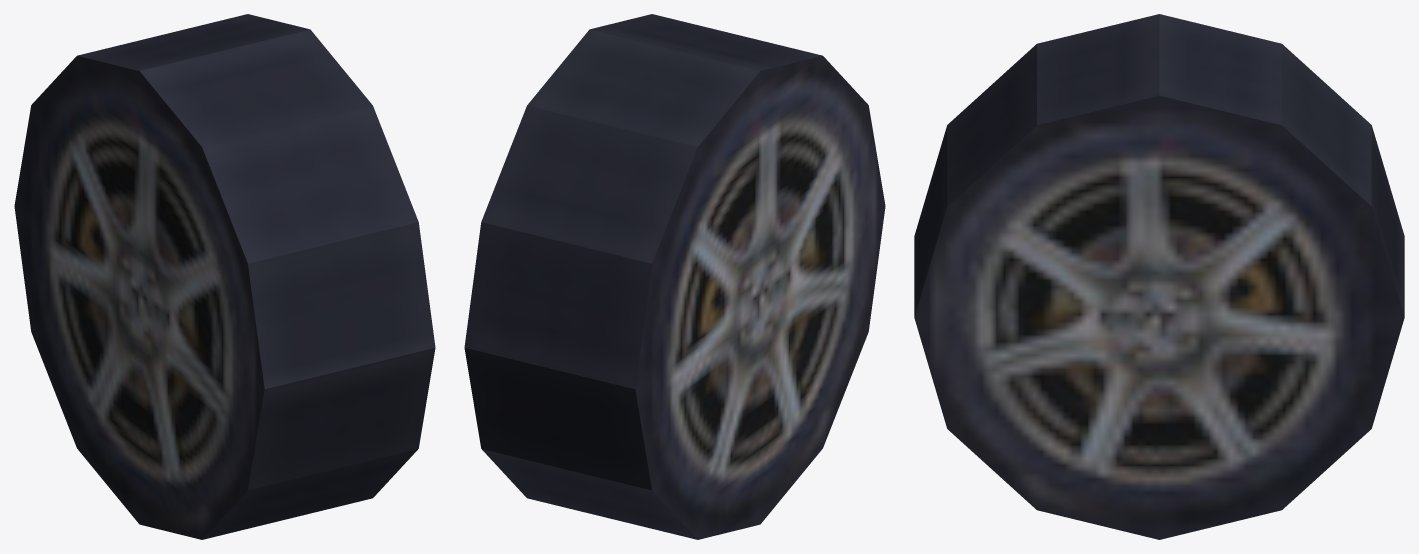
File: md_tire.dae
3 views of the same model, side by side, from view 1: azimuth 30°, elevation 25°; view 2: azimuth 150°, elevation 25°; view 3: azimuth 270°, elevation 25° (orthographic). The views are drawn at different scales.
Visible parts, largest first — view 1: Mesh_005; view 2: Mesh_005; view 3: Mesh_005.
Part boxes in pixels (left/top/right/bottom): Mesh_005: left=14, top=14, right=435, bottom=539; Mesh_005: left=464, top=14, right=885, bottom=539; Mesh_005: left=914, top=14, right=1404, bottom=539.
Size of the model in its own units: 2.2 by 5.58 by 5.58.
Materials: 1 (1 with a texture image).
